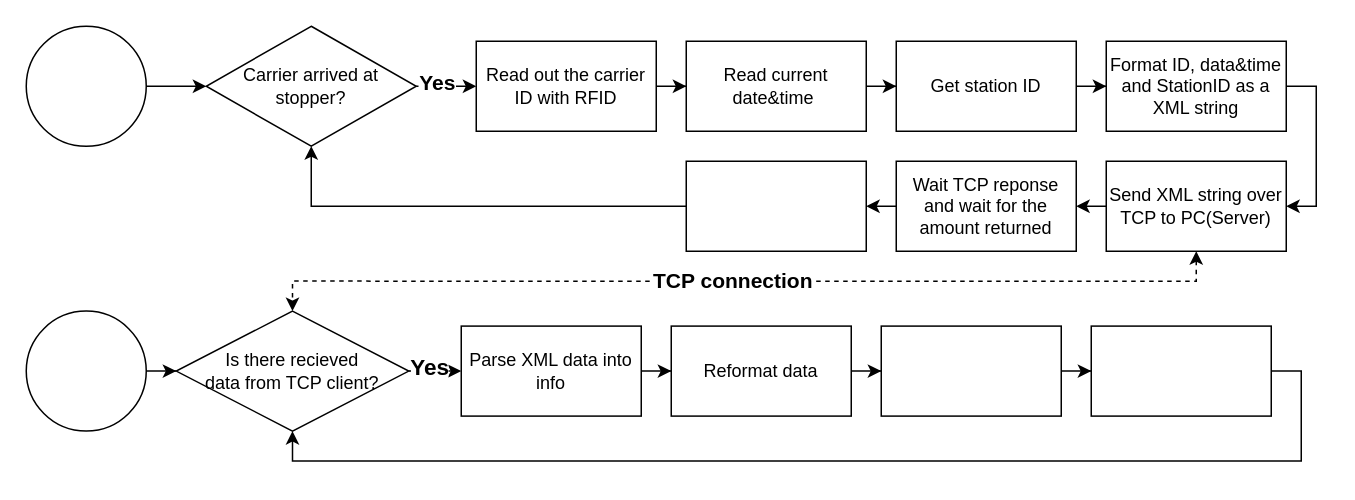
Some shapes in this 1355 by 500 pixel diagram are drawn without their labels. The centre of each missing label's shape, as x and y in pixels:
"PC" belongs at (85,370).
"PLC" belongs at (85,85).
"Published the reformatted data to ROS2 topic" belongs at (970,370).
"Release carrier" belongs at (775,205).
"Return proccessing time over TCP connection" belongs at (1180,370).
